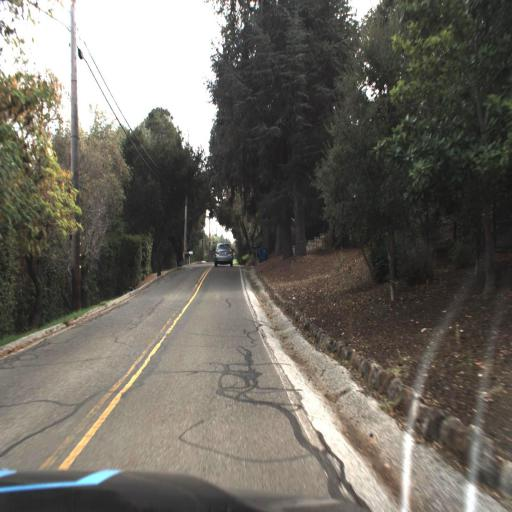car: (212, 239, 236, 270)
